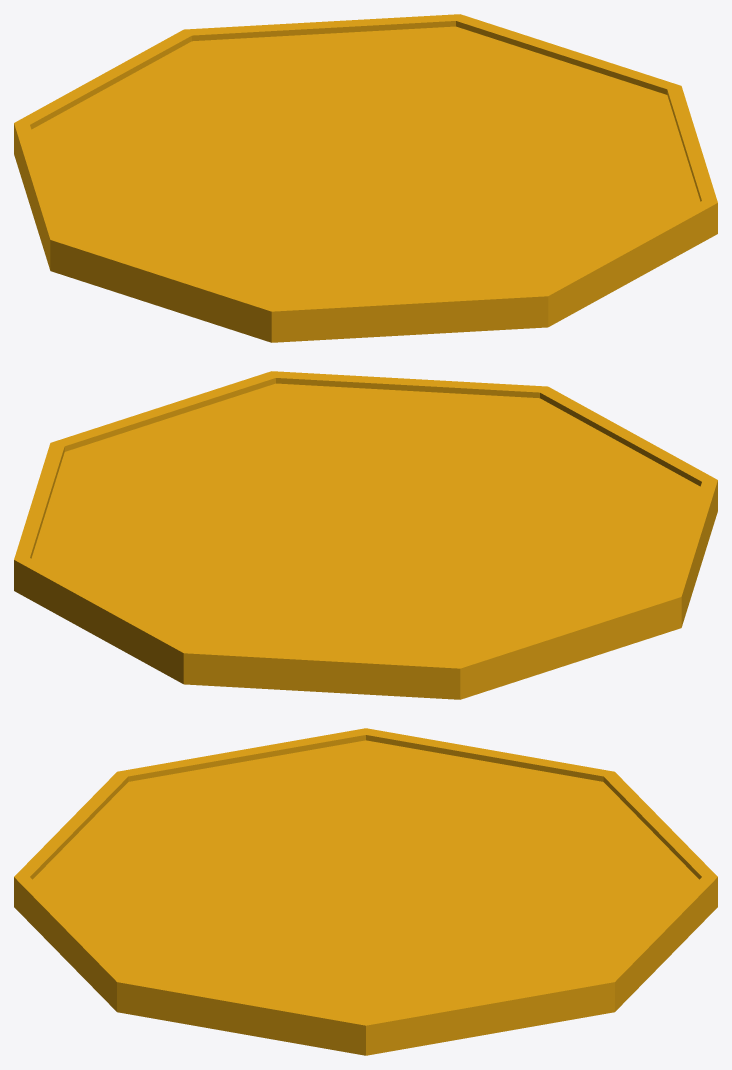
File: Pieces.fbx
The picture shows the model from 3 angles, top to bottom: view 1: azimuth 30°, elevation 25°; view 2: azimuth 150°, elevation 25°; view 3: azimuth 270°, elevation 25°; orthographic projection. The views are drawn at different scales.
Visible parts, largest first — view 1: Piece; view 2: Piece; view 3: Piece.
Part boxes in pixels (bbox=[...]): Piece: bbox=[14, 14, 717, 342]; Piece: bbox=[14, 371, 717, 699]; Piece: bbox=[14, 728, 717, 1055].
Bounding box in the file's own units: 6.07 × 0.2869 × 6.07.
